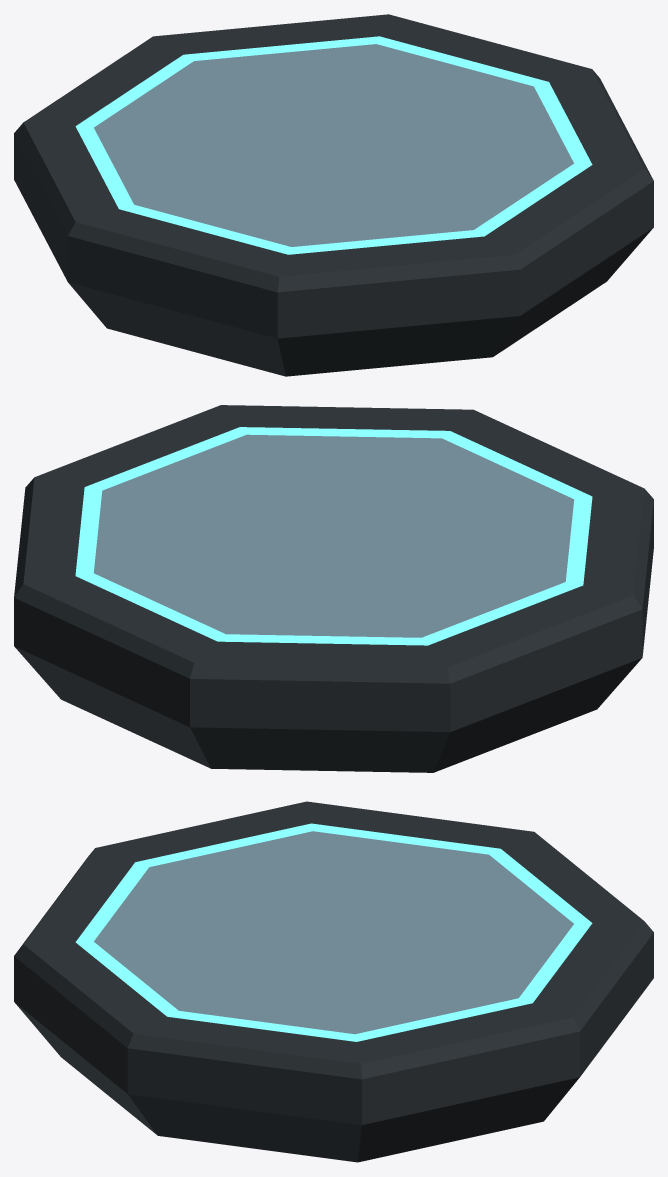
File: Aero_Station_Mini_Platform_Art.fbx
The picture shows the model from 3 angles, top to bottom: view 1: azimuth 30°, elevation 25°; view 2: azimuth 150°, elevation 25°; view 3: azimuth 270°, elevation 25°; orthographic projection. The views are drawn at different scales.
Parts seen in each view (by area): view 1: Aero_Station_Mini_Platform_Art; view 2: Aero_Station_Mini_Platform_Art; view 3: Aero_Station_Mini_Platform_Art.
Boxes of the visible parts, x1,y1,x2,y2 form: Aero_Station_Mini_Platform_Art: (14, 14, 653, 376); Aero_Station_Mini_Platform_Art: (14, 405, 653, 772); Aero_Station_Mini_Platform_Art: (14, 801, 653, 1162).
Size of the model in its own units: 201 by 39.62 by 201.
